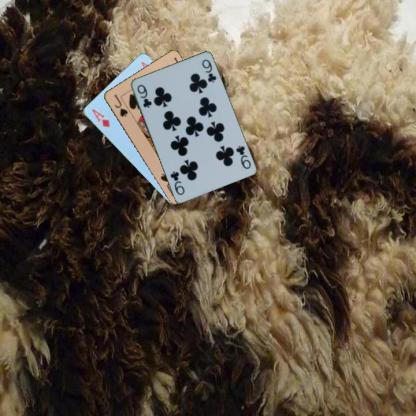9c: (134, 82, 153, 110), (233, 143, 252, 170)
Ad: (89, 106, 111, 128)
Js: (111, 92, 129, 118)
